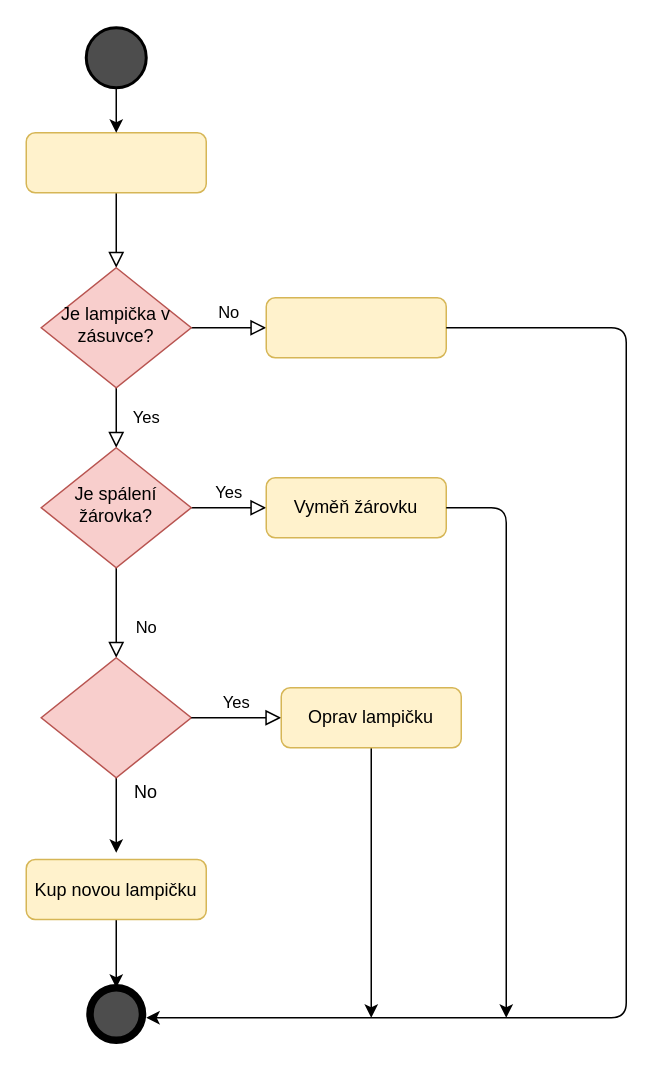
The diagram is 665 pixels wide and 1070 high, and some of its shapes have lost their labels. The centre of each missing label's shape, as x and y in pixels:
Je lampička opravitelná?: the point at 115,717
Lampička nesvítí: the point at 115,162
Zapoj lampičku: the point at 355,327
